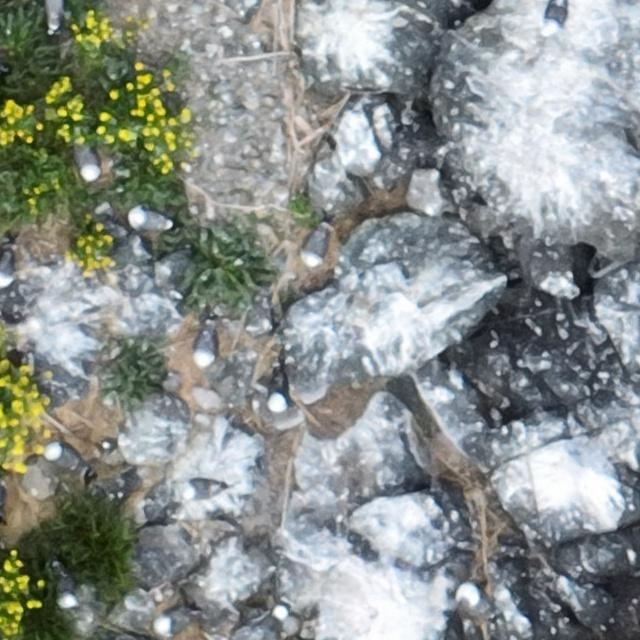umineko: (459, 584, 500, 624), (267, 361, 290, 414), (128, 210, 168, 232), (304, 228, 328, 262), (48, 445, 80, 470), (158, 611, 190, 634), (77, 149, 99, 182), (195, 328, 215, 362), (57, 571, 76, 606), (272, 608, 297, 634), (544, 0, 564, 32), (46, 2, 64, 30), (185, 481, 215, 496), (0, 250, 12, 285)
